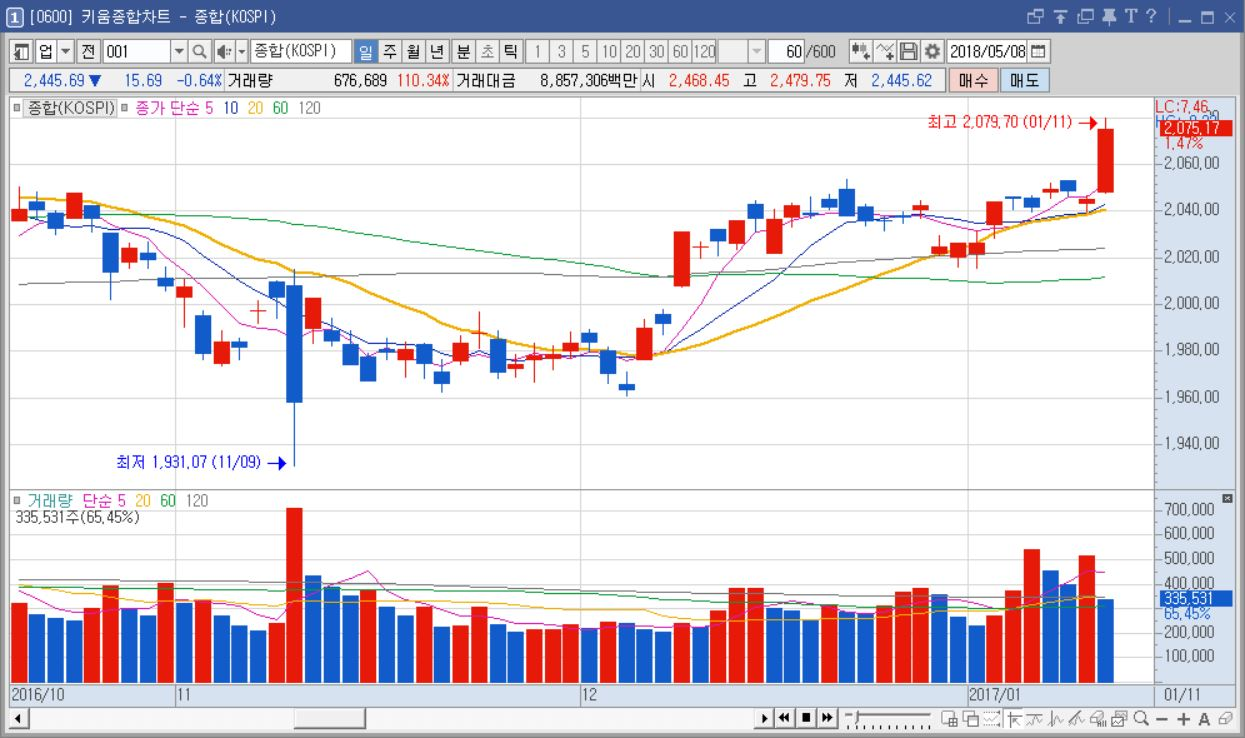up: (618, 109, 1118, 679)
